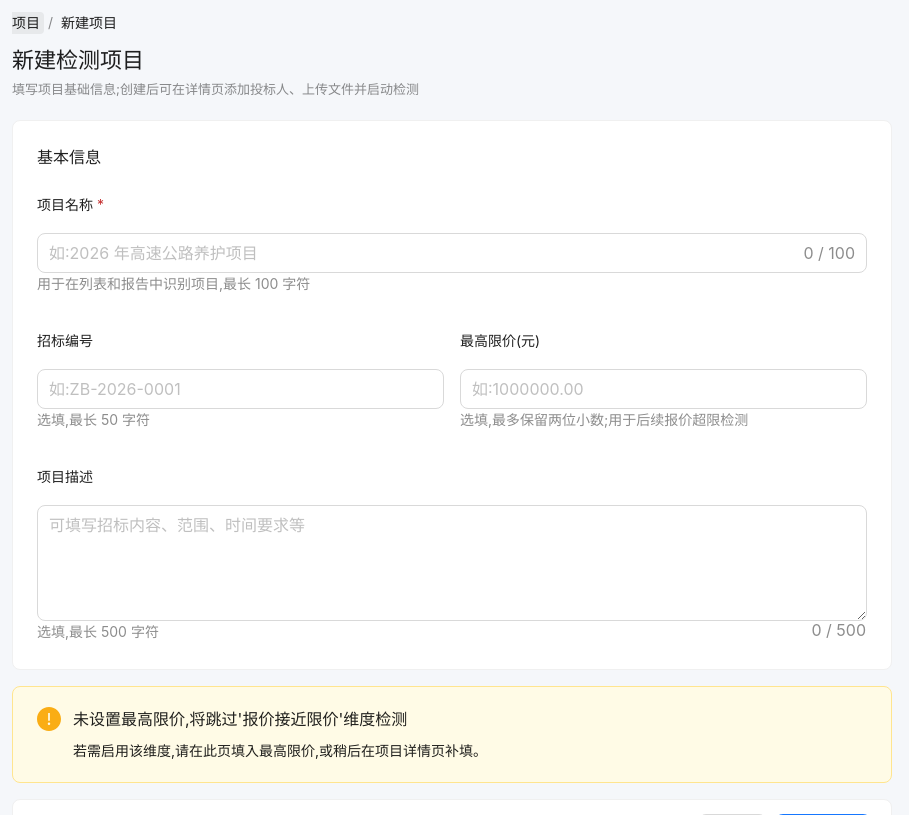
ProjectCreatePage › max_price 负数显示错误
The image size is (909, 815).
Type "合法项目" into the field with test id "create-name" at (424, 253), box x1=49 y1=241 x2=799 y2=265
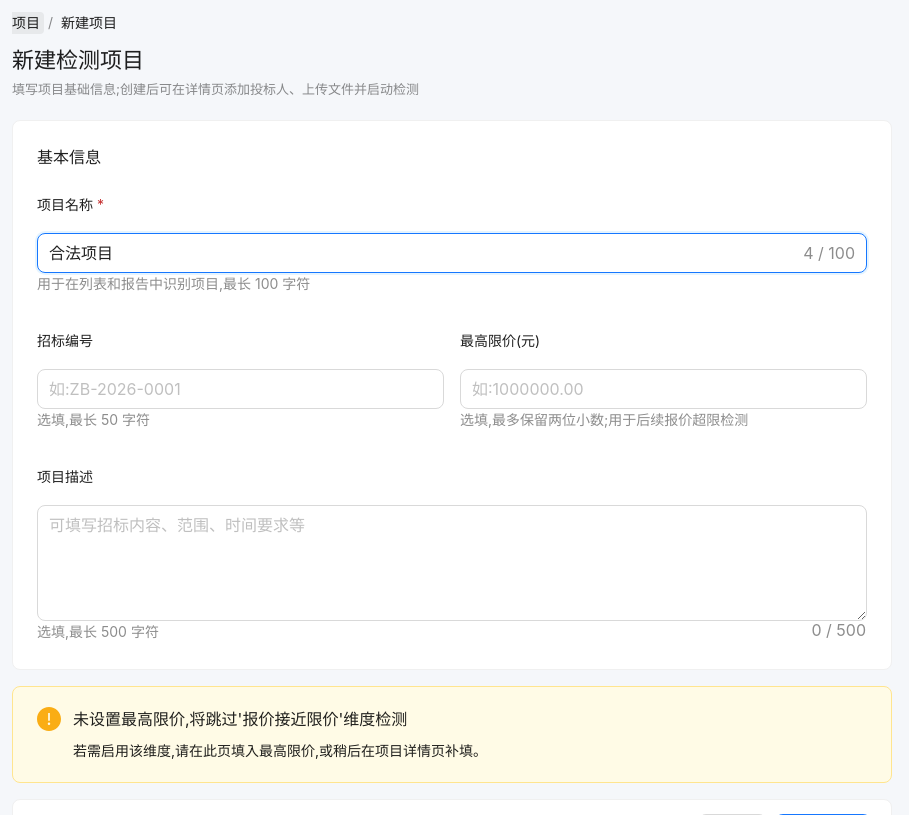
Type "-5" into the field with test id "create-max-price" at (664, 389), box x1=460 y1=369 x2=867 y2=409
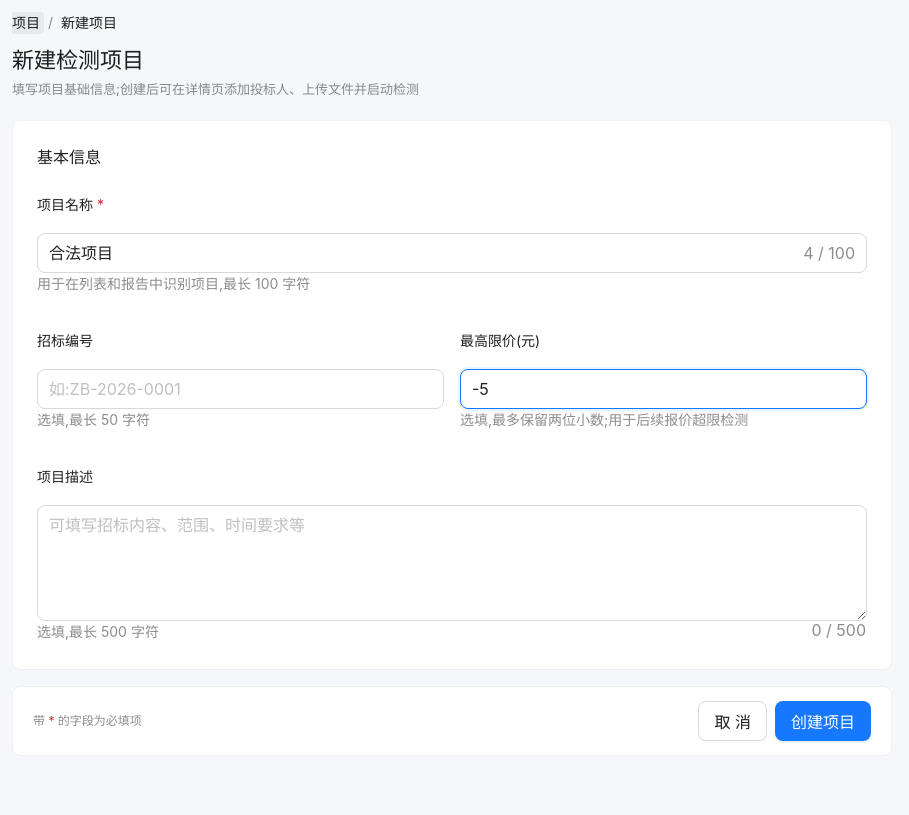
Click the button with test id "create-submit" at (823, 721), box x1=775 y1=701 x2=871 y2=741
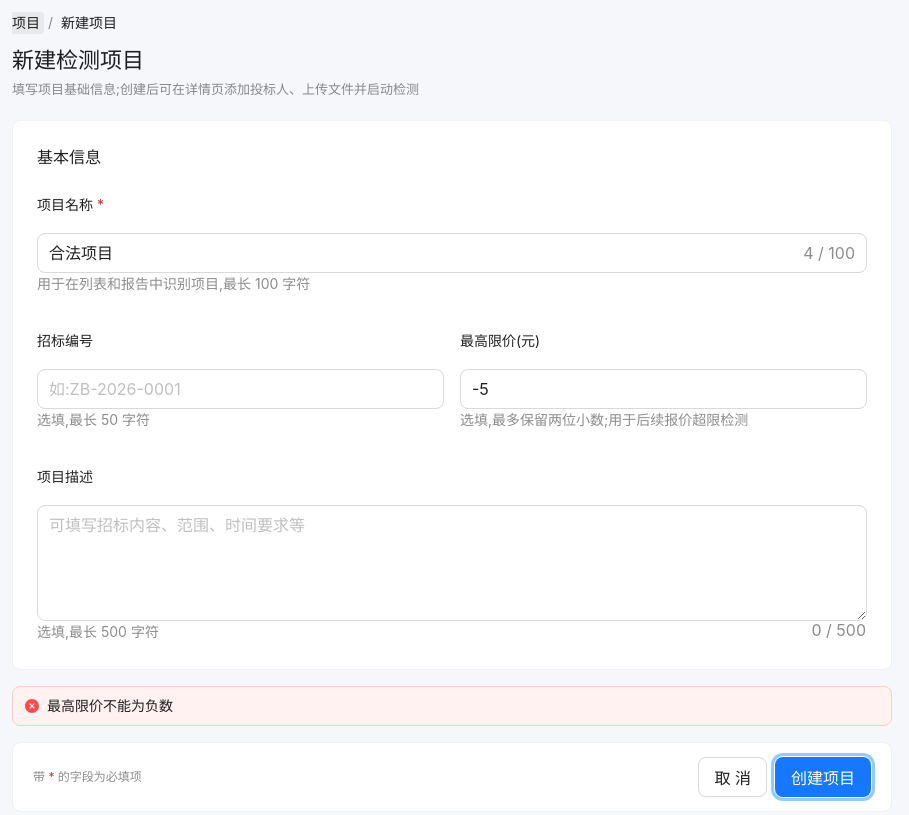
Expected: the message with test id "create-error" shows "不能为负数", x1=47 y1=697 x2=173 y2=714
